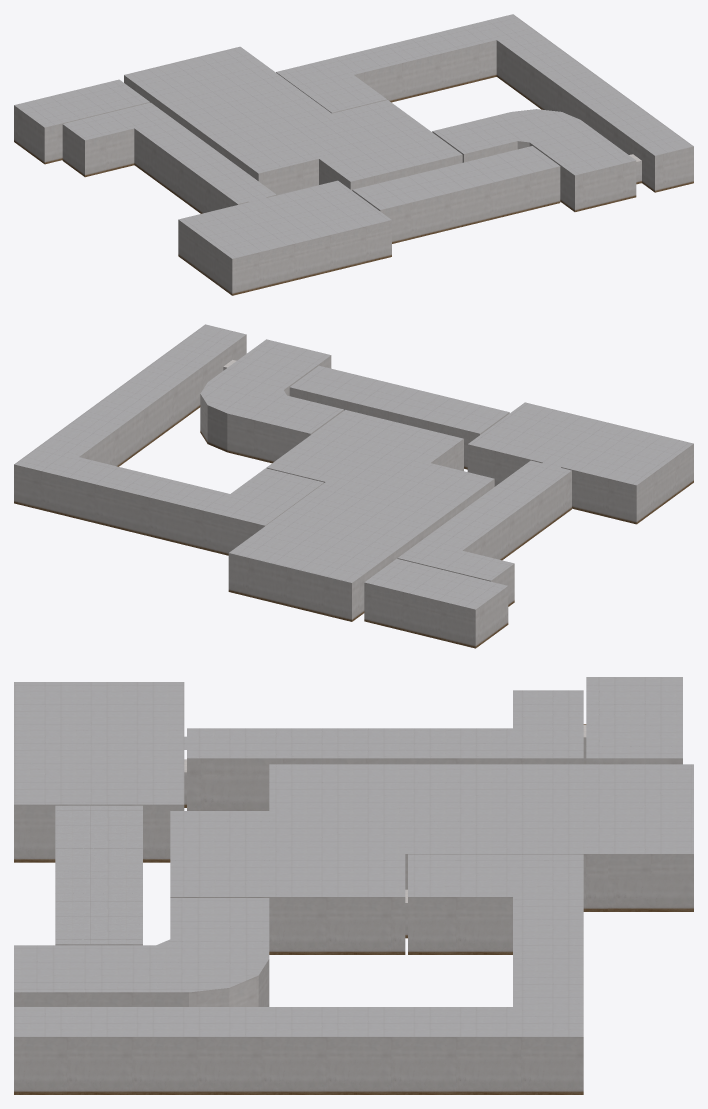
Rendered from level01.fbx.
3 views of the same model, one above another, from view 1: azimuth 30°, elevation 25°; view 2: azimuth 150°, elevation 25°; view 3: azimuth 270°, elevation 25° (orthographic). The views are drawn at different scales.
Parts seen in each view (by area): view 1: Building; view 2: Building; view 3: Building.
Boxes of the visible parts, x1,y1,x2,y2 form: Building: [14, 14, 693, 295]; Building: [14, 324, 693, 648]; Building: [14, 677, 693, 1094].
Size of the model in its own units: 5262 by 396 by 4204.
